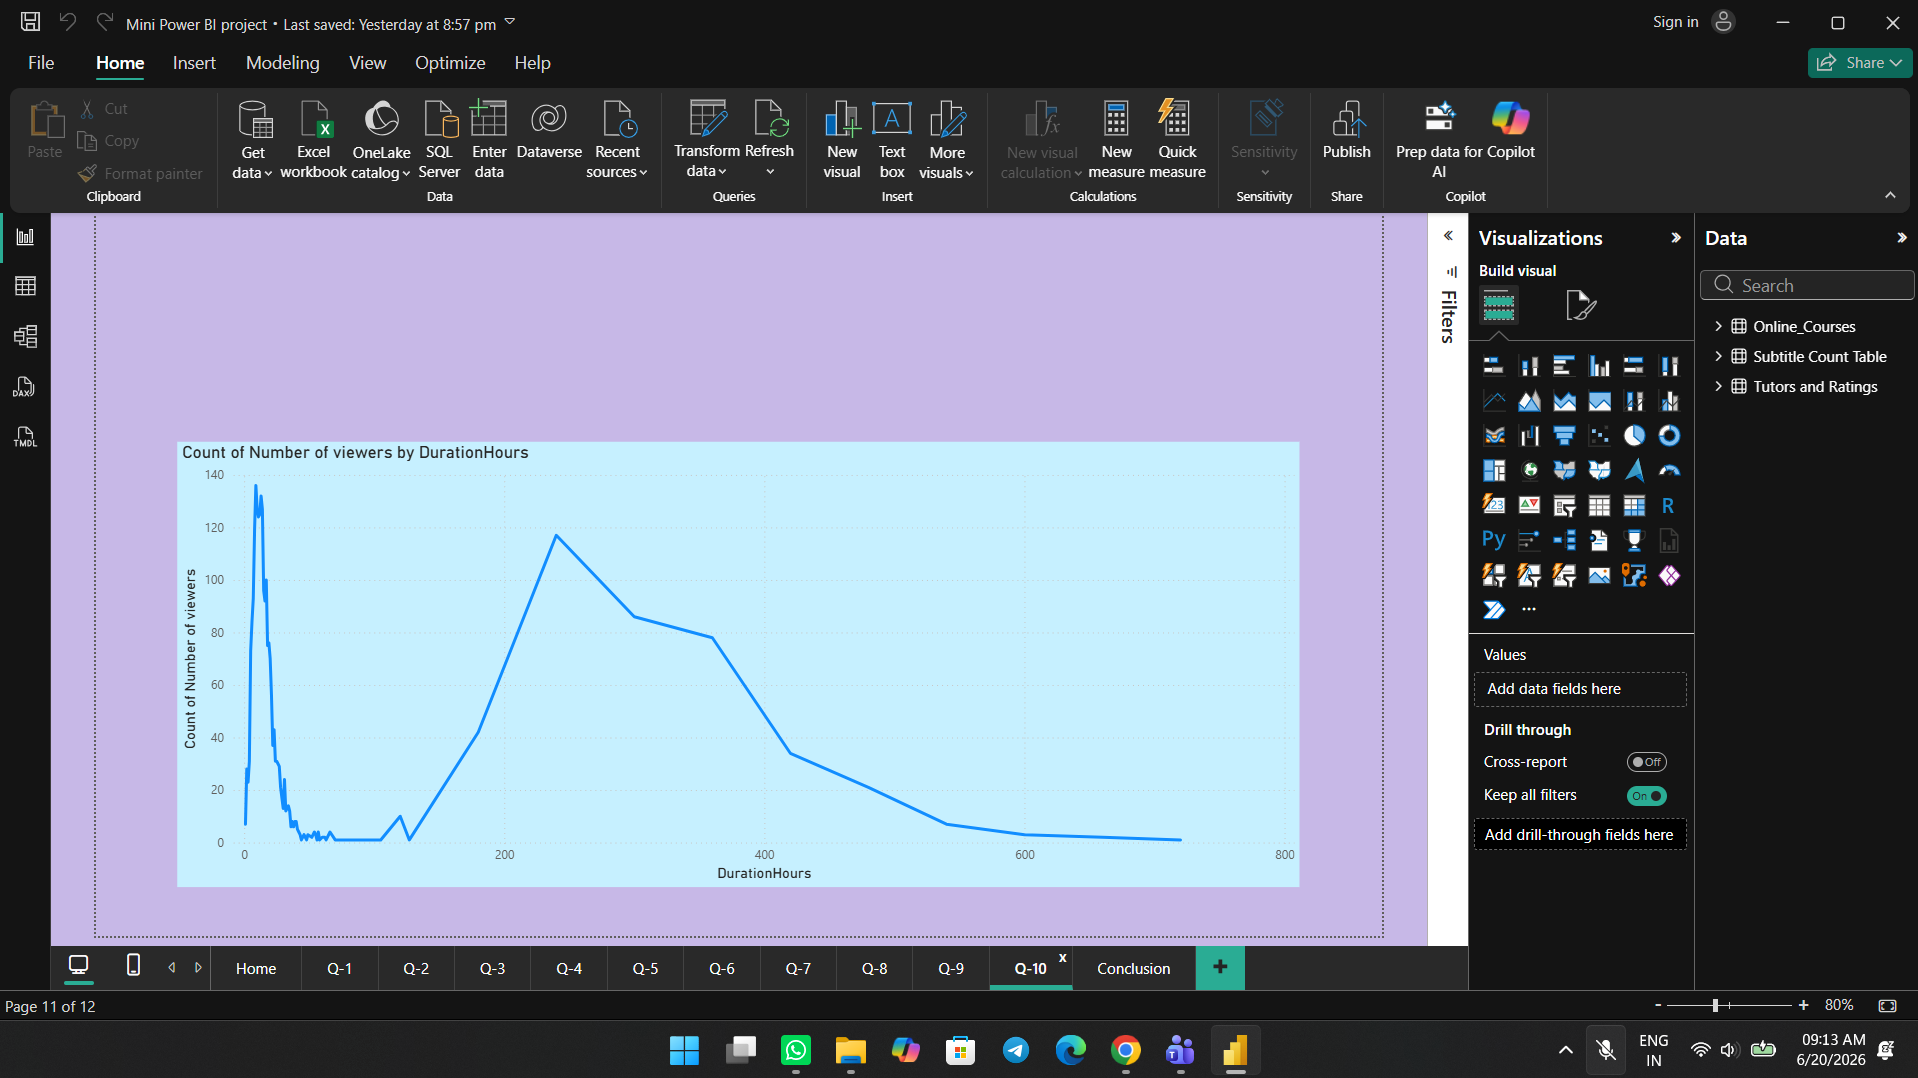

This screenshot's page, from the dashboard's own definition file:
{"tool":"powerbi","page":{"name":"Q-10","canvas":[1280,720],"ordinal":10},"visuals":[{"type":"lineChart","fields":{"Category":["Online_Courses.DurationHours"],"Y":["CountNonNull(Online_Courses.Number of viewers)"]},"box":[81.4,227.1,1117.1,442.9],"z":0}]}

Visuals, with their boxes on the page's 1280x720 design canvas (x1, y1, x2, y2). These are canvas units, not pixel positions in the 1918x1078 screenshot, which may show the page scaled, cropped or inside an application window:
lineChart - Online_Courses.DurationHours x CountNonNull(Online_Courses.Number of viewers): <box>81,227,1198,670</box>
